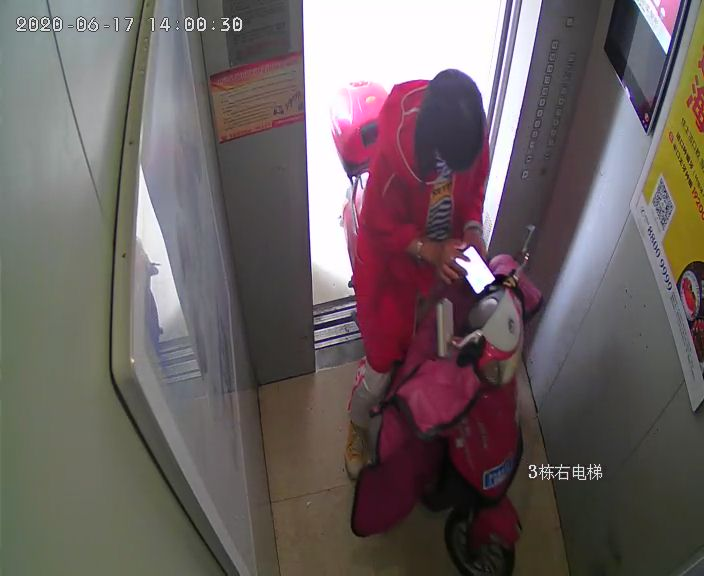Electric-bicycle: (333, 85, 535, 575)
